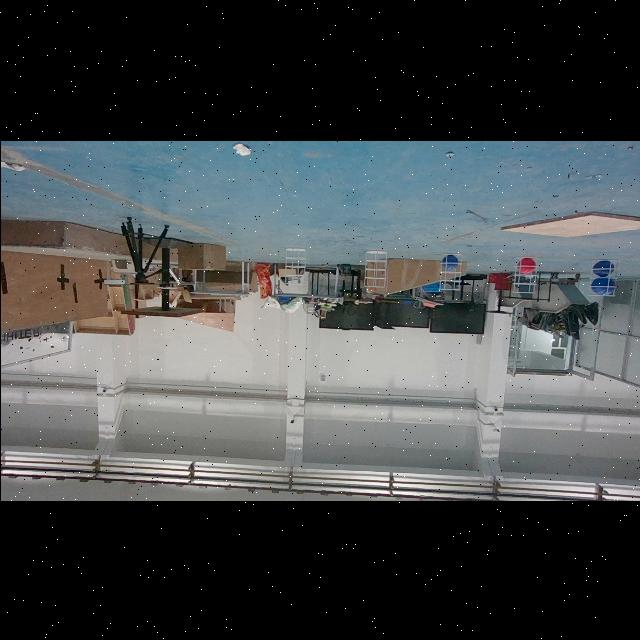B: (589, 276, 617, 294), (592, 260, 614, 276), (438, 254, 459, 268)
R: (516, 258, 536, 272)
S: (585, 255, 619, 299), (508, 253, 540, 294), (281, 244, 309, 286), (436, 249, 464, 291), (362, 247, 390, 287)
